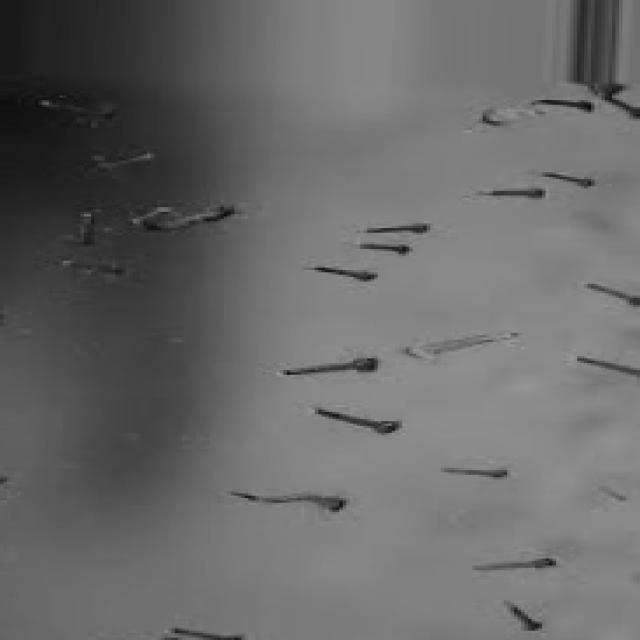larvas: (136, 200, 235, 236), (240, 490, 350, 514), (322, 406, 396, 434), (287, 356, 379, 374), (63, 256, 117, 282), (579, 354, 635, 379), (43, 101, 119, 119), (98, 152, 157, 174), (476, 556, 555, 572), (590, 282, 638, 306), (508, 598, 544, 630), (602, 87, 640, 117), (366, 220, 432, 237), (177, 623, 241, 640), (550, 167, 597, 190), (316, 266, 379, 282), (533, 96, 590, 112), (72, 208, 99, 241), (446, 466, 509, 480), (484, 188, 546, 200), (362, 242, 410, 254), (604, 484, 630, 506)
